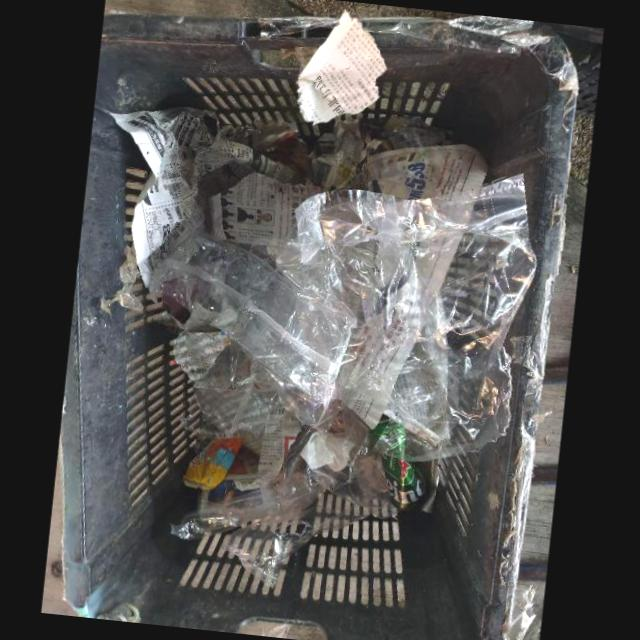giay: (108, 9, 487, 286)
nhom: (370, 419, 429, 509)
tui_ni_long: (147, 141, 536, 471)
